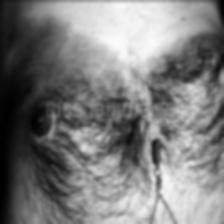Unclassified: (53, 16, 113, 182), (170, 62, 218, 176)
